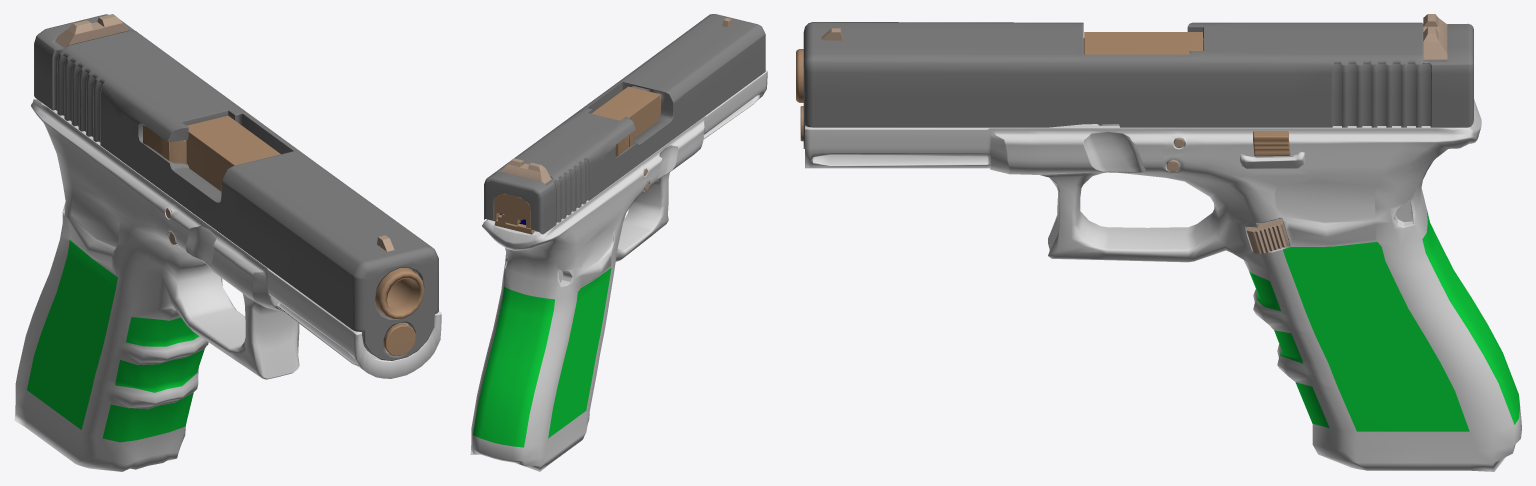
3 views of the same model, side by side, from view 1: azimuth 30°, elevation 25°; view 2: azimuth 150°, elevation 25°; view 3: azimuth 270°, elevation 25° (orthographic). The views are drawn at different scales.
Parts seen in each view (by area): view 1: Slide; view 2: Slide; view 3: Slide.
Part boxes in pixels (x1,y1,x2,y2): Slide: [14, 14, 441, 471]; Slide: [470, 14, 767, 471]; Slide: [796, 14, 1521, 471].
Size of the model in its own units: 3.81 by 13.21 by 20.55.
